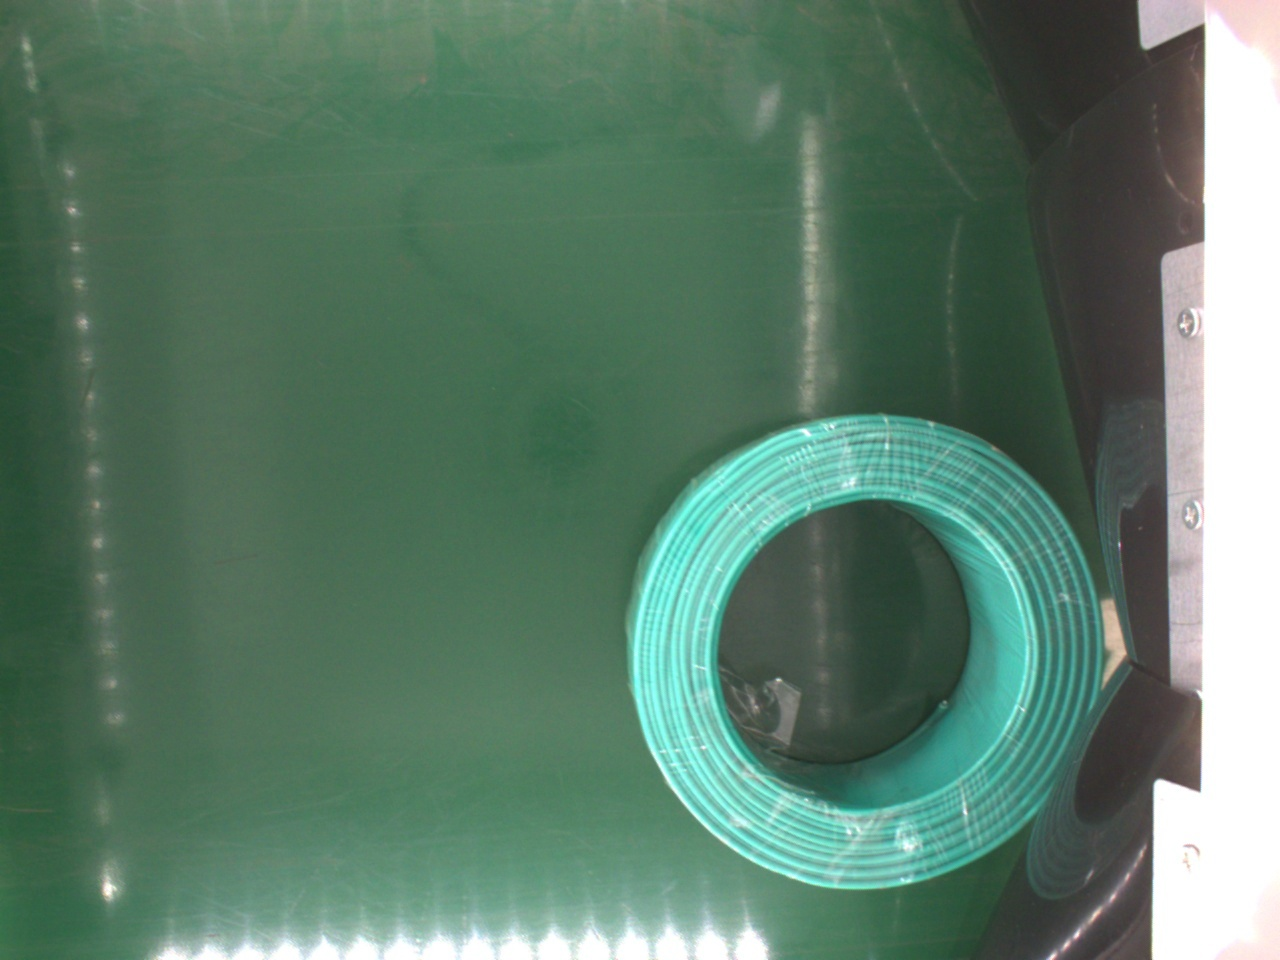green: (622, 412, 1107, 897)
